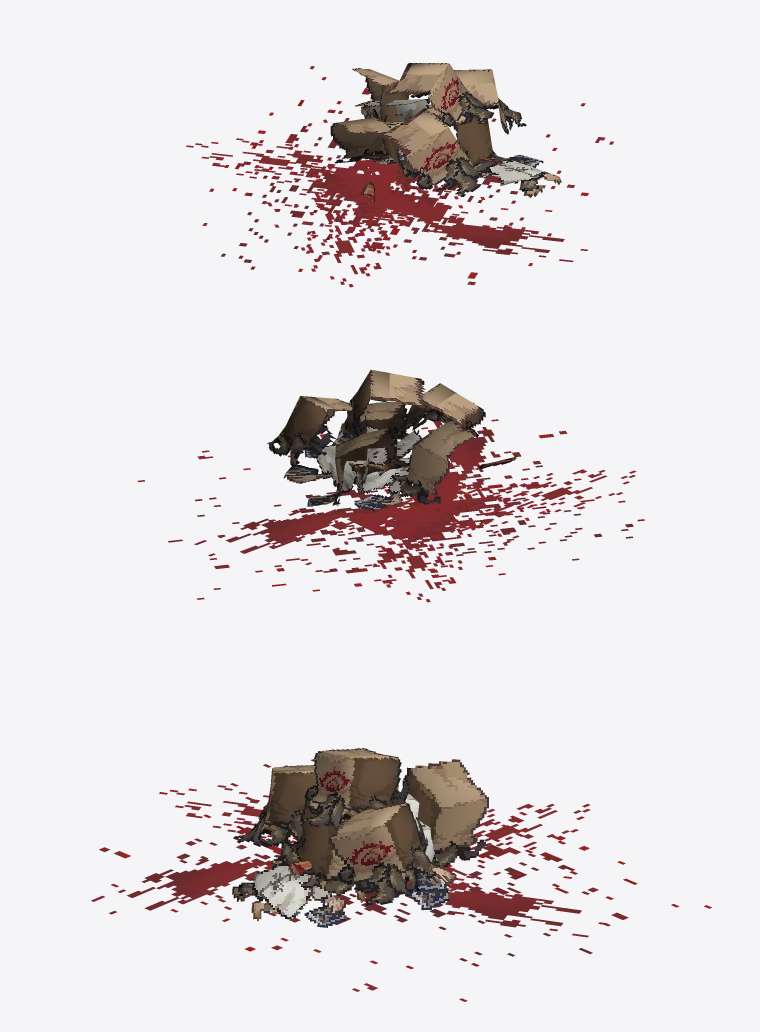
3 views of the same model, one above another, from view 1: azimuth 30°, elevation 25°; view 2: azimuth 150°, elevation 25°; view 3: azimuth 270°, elevation 25° (orthographic). The views are drawn at different scales.
Visible parts, largest first — view 1: DeadMan_Zealot_S (×3), Img_25D_BG_GroundDecal_Blood_004 (×2), DeadMan_Zealot_N (×3), Img_25D_BG_GroundDecal_Blood_001; view 2: DeadMan_Zealot_S (×3), Img_25D_BG_GroundDecal_Blood_004 (×2), DeadMan_Zealot_N (×3), Img_25D_BG_GroundDecal_Blood_001; view 3: DeadMan_Zealot_S (×3), DeadMan_Zealot_N (×2), Img_25D_BG_GroundDecal_Blood_004 (×2), Img_25D_BG_GroundDecal_Blood_001.
Boxes of the visible parts, left/top/right/bottom form: DeadMan_Zealot_S (×3): left=355, top=63, right=526, bottom=203; Img_25D_BG_GroundDecal_Blood_004 (×2): left=186, top=119, right=587, bottom=287; DeadMan_Zealot_N (×3): left=330, top=68, right=561, bottom=197; Img_25D_BG_GroundDecal_Blood_001: left=202, top=66, right=613, bottom=285; DeadMan_Zealot_S (×3): left=267, top=369, right=516, bottom=494; Img_25D_BG_GroundDecal_Blood_004 (×2): left=194, top=402, right=636, bottom=602; DeadMan_Zealot_N (×3): left=304, top=401, right=476, bottom=511; Img_25D_BG_GroundDecal_Blood_001: left=137, top=419, right=644, bottom=599; DeadMan_Zealot_S (×3): left=233, top=748, right=456, bottom=905; DeadMan_Zealot_N (×2): left=232, top=759, right=488, bottom=927; Img_25D_BG_GroundDecal_Blood_004 (×2): left=91, top=785, right=606, bottom=937; Img_25D_BG_GroundDecal_Blood_001: left=99, top=759, right=711, bottom=1001.
Bounding box in the file's own units: 3.74 × 0.7865 × 3.73.
Materials: 2 (2 with a texture image).
